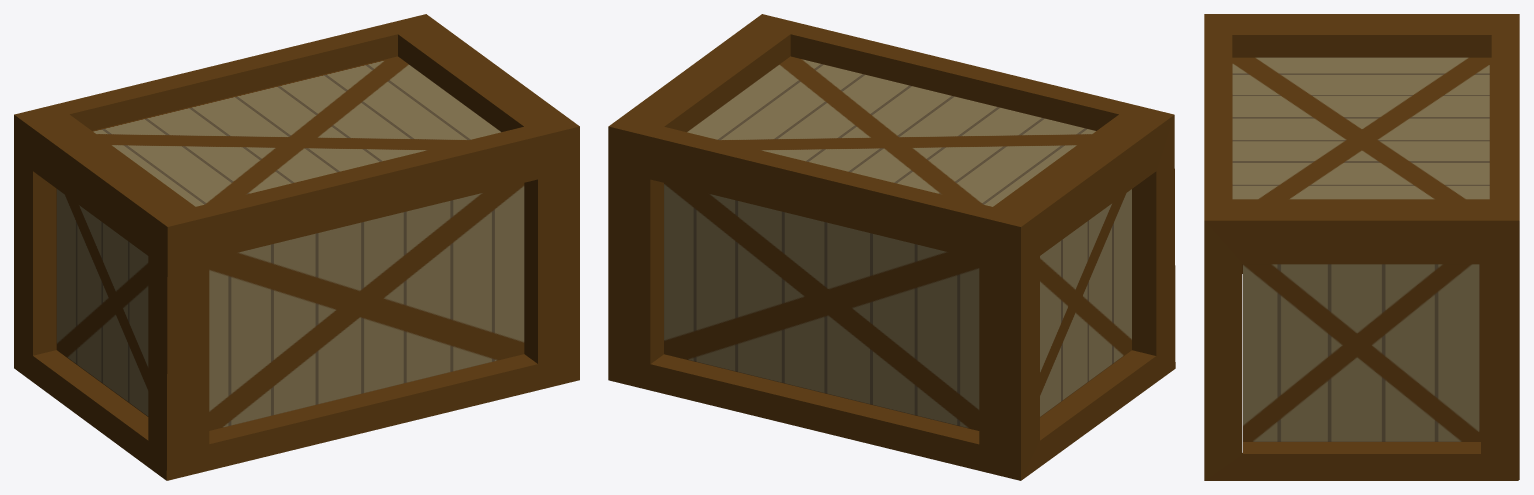
Rendered from crate.FBX.
3 views of the same model, side by side, from view 1: azimuth 30°, elevation 25°; view 2: azimuth 150°, elevation 25°; view 3: azimuth 270°, elevation 25° (orthographic). The views are drawn at different scales.
Parts seen in each view (by area): view 1: crate; view 2: crate; view 3: crate.
Part boxes in pixels (x1,y1,x2,y2): crate: (14, 14, 579, 480); crate: (608, 14, 1175, 480); crate: (1204, 14, 1519, 480).
Size of the model in its own units: 56.63 by 36.47 by 33.24.
Materials: 1 (1 with a texture image).
